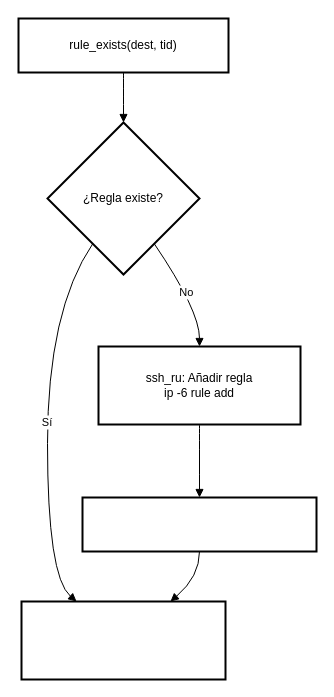
The diagram is 334 pixels wide and 697 high, and some of its shapes have lost their labels. The centre of each missing label's shape, as x and y in pixels:
Imprimir resultado regla: the point at 199,524
Imprimir: Done flow: the point at 123,640
